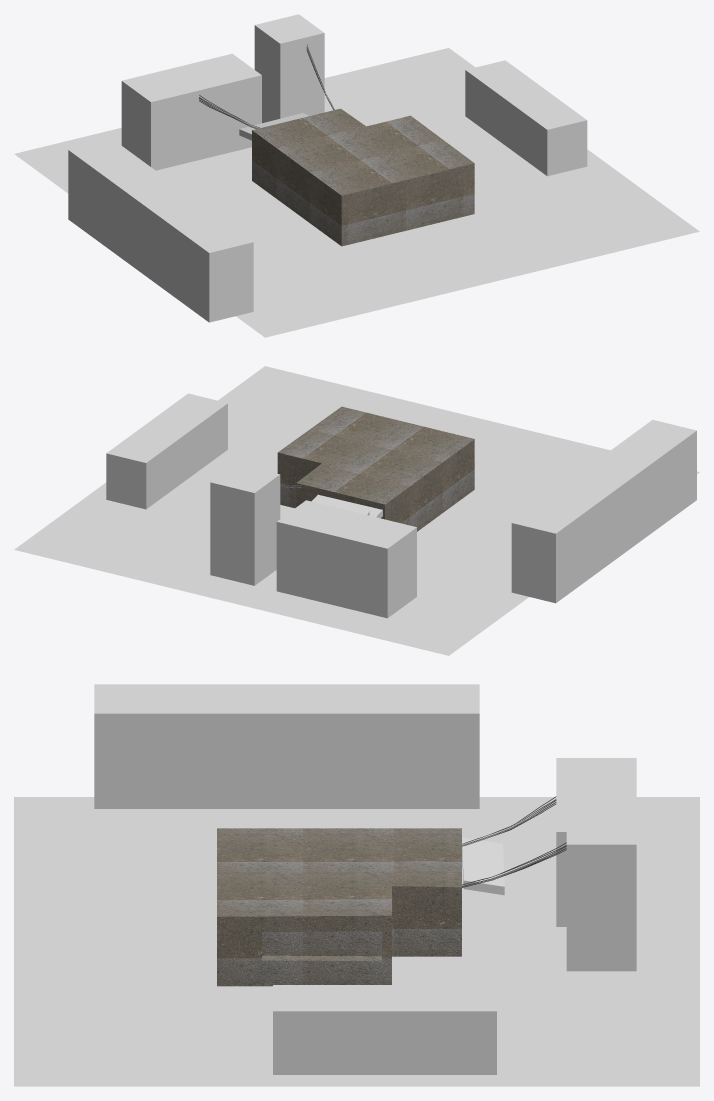
File: city.glb
The picture shows the model from 3 angles, top to bottom: view 1: azimuth 30°, elevation 25°; view 2: azimuth 150°, elevation 25°; view 3: azimuth 270°, elevation 25°; orthographic projection. The views are drawn at different scales.
Parts seen in each view (by area): view 1: Plane, Cube, Cube.005, Cube.002, Cube.004, Cube.003; view 2: Plane, Cube.005, Cube, Cube.002, Cube.004, Cube.003, Cube.001; view 3: Plane, Cube.005, Cube, Cube.004, Cube.003, Cube.002, Cube.001.
Boxes of the visible parts, <box> form: Plane: <box>14,48,699,337</box>; Cube: <box>252,108,474,246</box>; Cube.005: <box>68,139,253,322</box>; Cube.002: <box>121,53,261,170</box>; Cube.004: <box>465,60,587,176</box>; Cube.003: <box>254,14,324,123</box>; Plane: <box>14,366,699,655</box>; Cube.005: <box>511,419,696,603</box>; Cube: <box>277,406,474,531</box>; Cube.002: <box>276,500,416,618</box>; Cube.004: <box>106,393,227,509</box>; Cube.003: <box>210,463,280,585</box>; Cube.001: <box>311,494,382,518</box>; Plane: <box>14,797,699,1086</box>; Cube.005: <box>94,684,479,808</box>; Cube: <box>217,828,461,986</box>; Cube.004: <box>273,985,496,1074</box>; Cube.003: <box>566,815,636,971</box>; Cube.002: <box>556,758,636,926</box>; Cube.001: <box>462,837,504,895</box>.
Bounding box in the file's own units: 20.81 × 4 × 19.62.
Materials: 6 (3 with a texture image).
